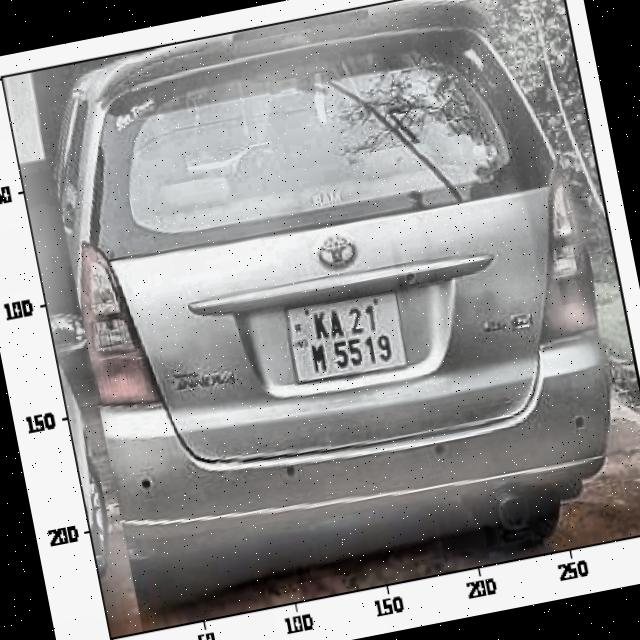license_plate: (290, 290, 404, 384)
